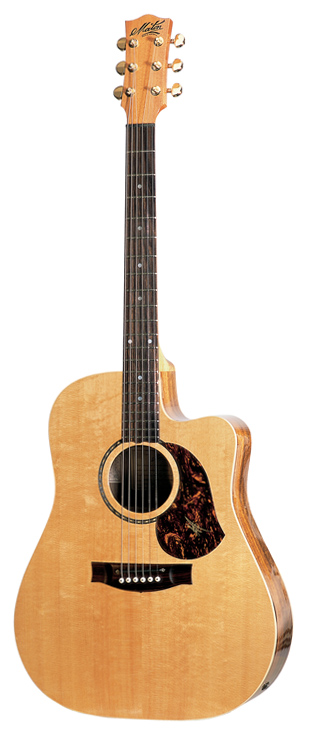guitar: (12, 16, 295, 722)
